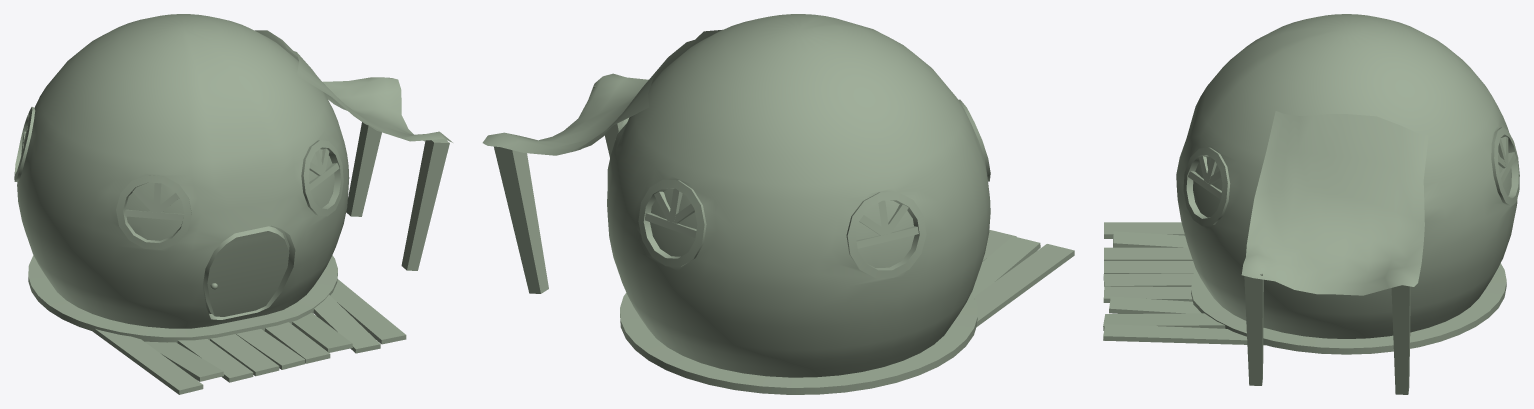
Rendered from sm_house.fbx.
3 renders of one model, left to right at view 1: azimuth 30°, elevation 25°; view 2: azimuth 150°, elevation 25°; view 3: azimuth 270°, elevation 25°, orthographic. The views are drawn at different scales.
Visible parts, largest first — view 1: sm_house; view 2: sm_house; view 3: sm_house.
Part boxes in pixels (x1,y1,x2,y2): sm_house: (14, 14, 452, 394); sm_house: (482, 14, 1074, 394); sm_house: (1103, 14, 1519, 394).
Bounding box in the file's own units: 698 × 440 × 632.
